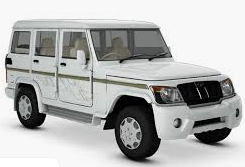car: (4, 17, 242, 160)
